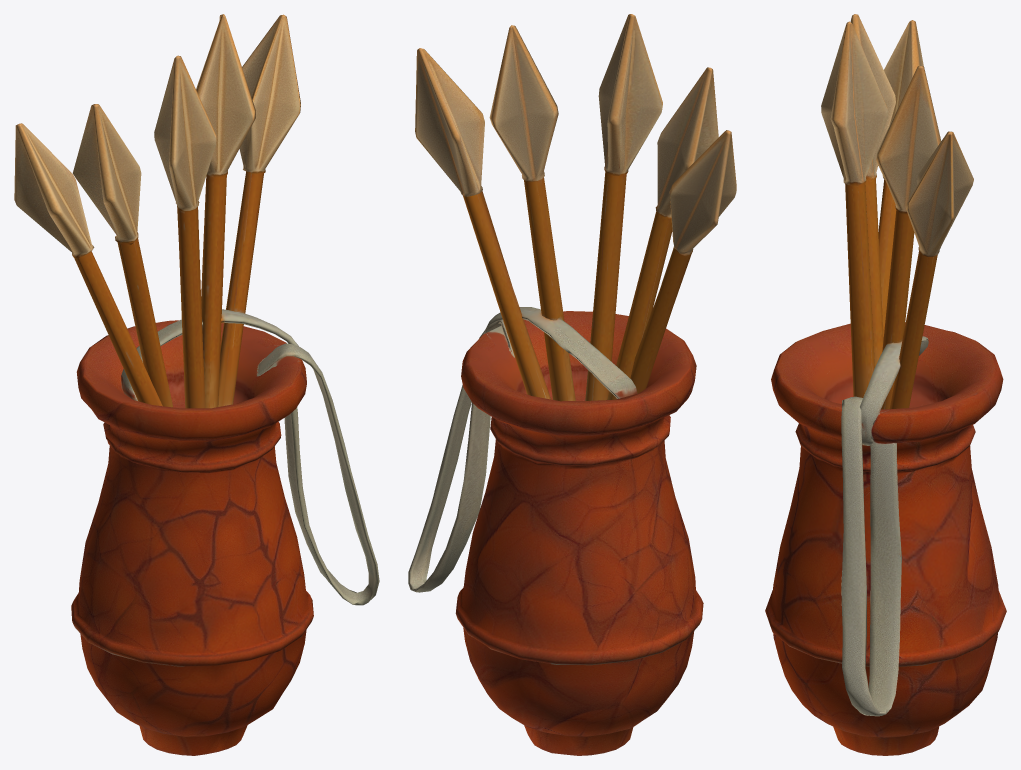
Rendered from heart-of-kiln-r2_refine.glb.
3 views of the same model, side by side, from view 1: azimuth 30°, elevation 25°; view 2: azimuth 150°, elevation 25°; view 3: azimuth 270°, elevation 25° (orthographic). The views are drawn at different scales.
Size of the model in its own units: 0.478 by 0.9517 by 0.2993.
Materials: 1 (1 with a texture image).
